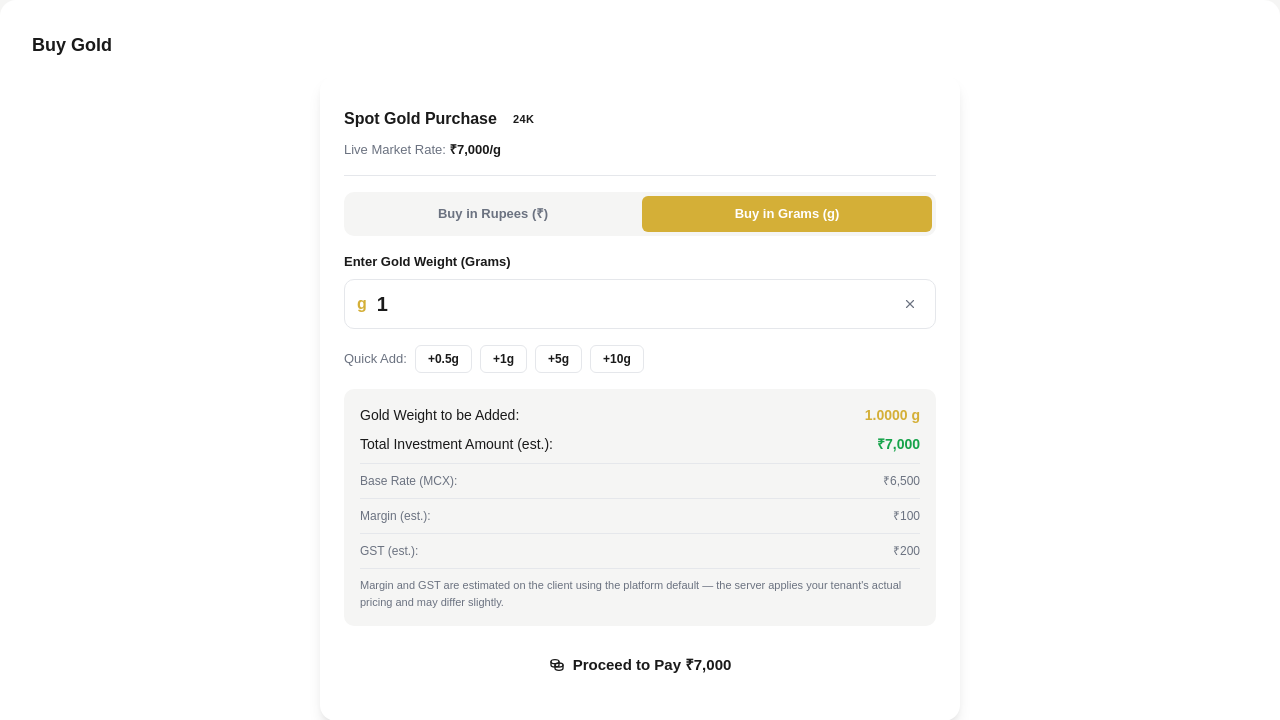
Test case: BuyGold › entering an amount › adds quick amounts of grams to the current weight
This screenshot has width=1280, height=720.
Click the button "+0.5g" at (443, 359), box [415,345,472,373]
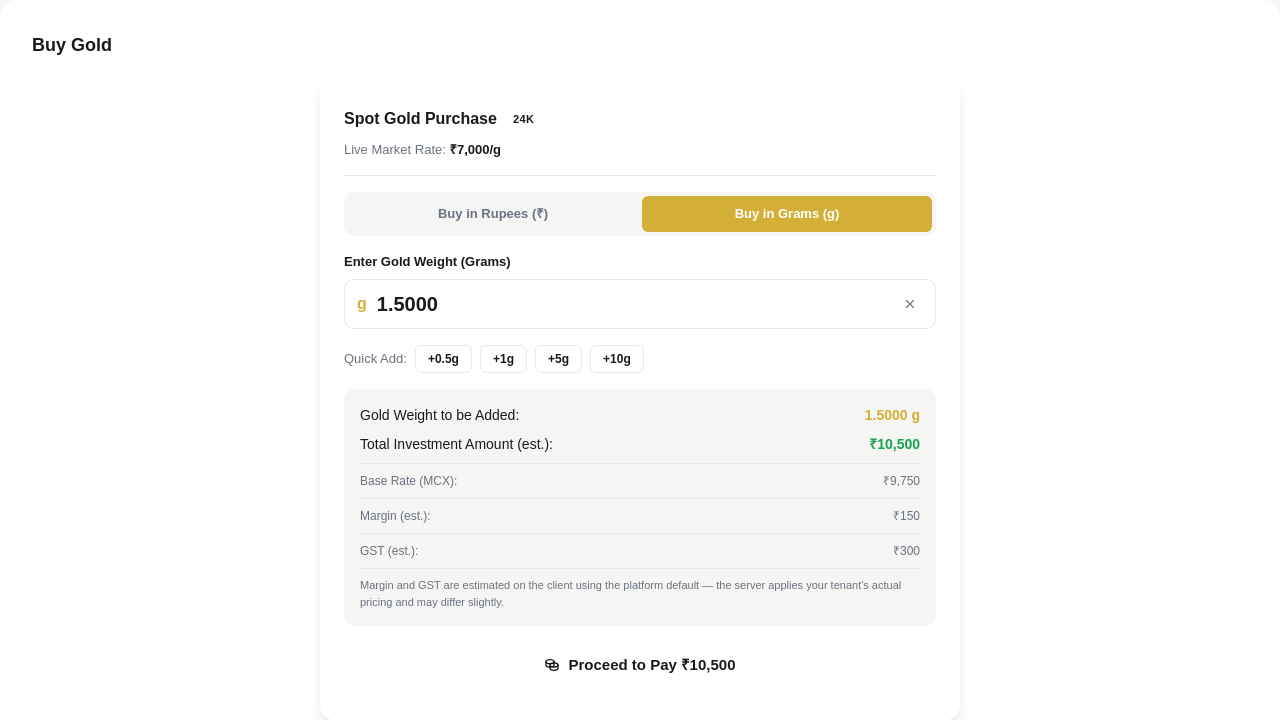
Check: the field labelled "Enter Gold Weight (Grams)" holds "1.5000", box [375,288,889,320]
Click the button "+5g" at (558, 359), box [535,345,582,373]
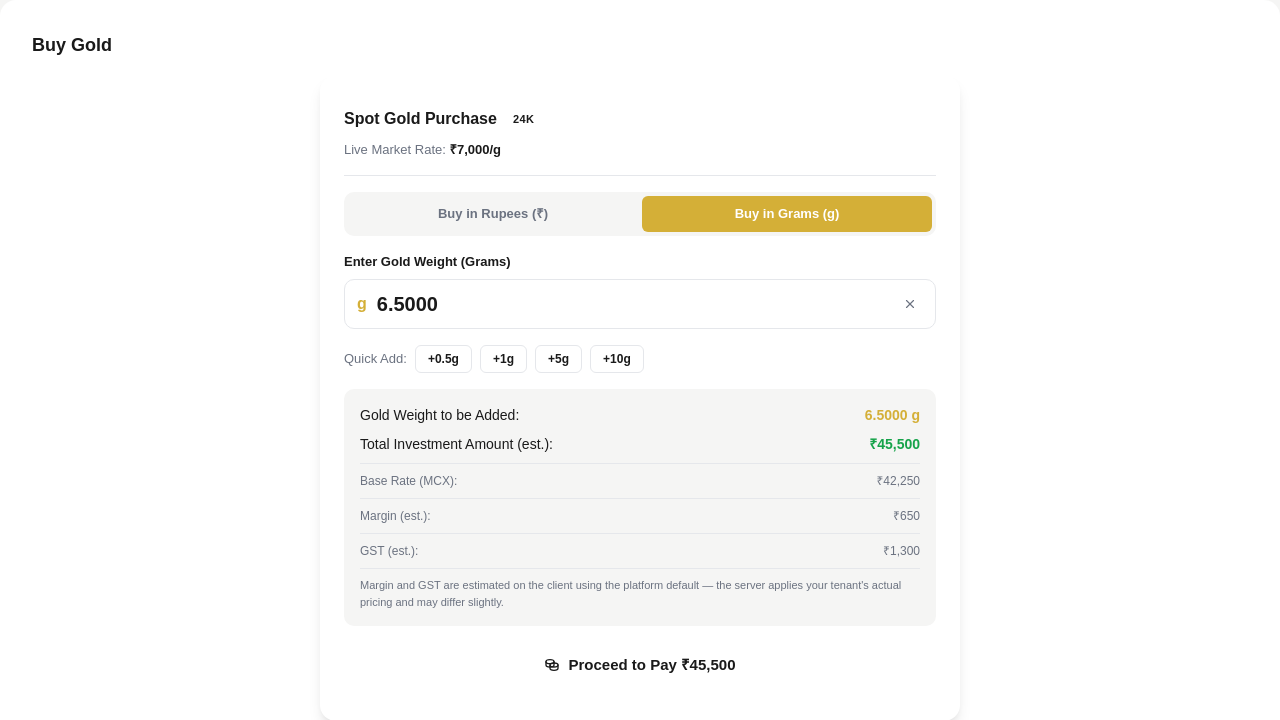
Check: the field labelled "Enter Gold Weight (Grams)" holds "6.5000", box [375,288,889,320]
